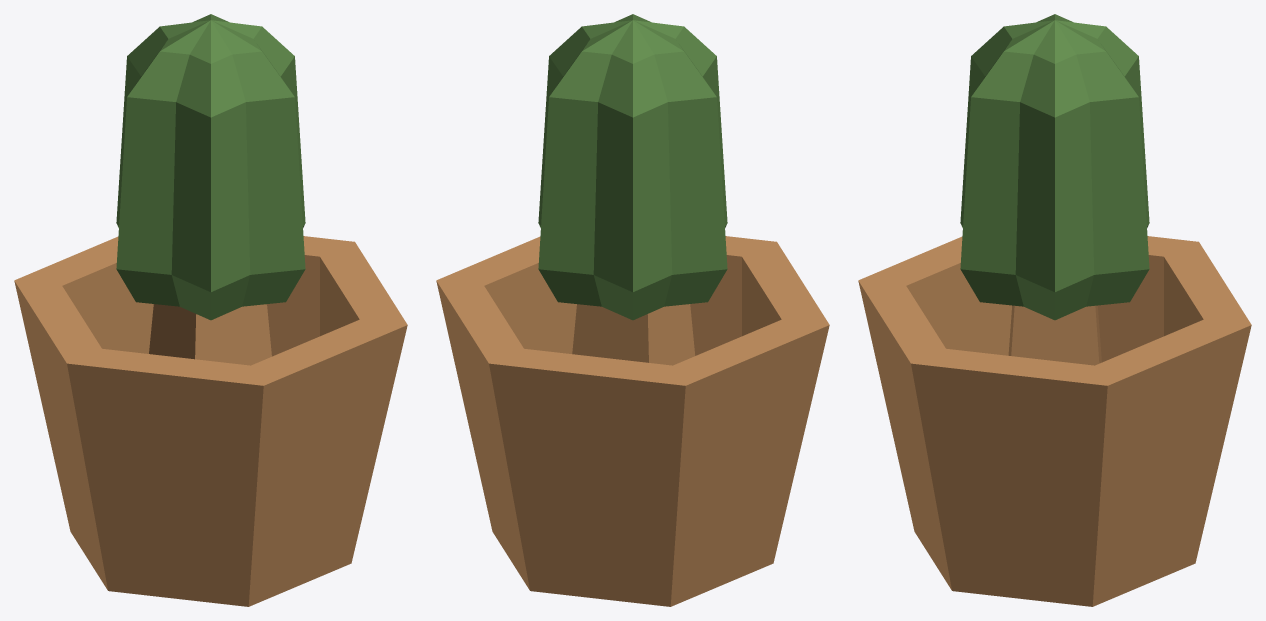
The model's file is kitPlantSmall2.glb.
3 renders of one model, left to right at view 1: azimuth 30°, elevation 25°; view 2: azimuth 150°, elevation 25°; view 3: azimuth 270°, elevation 25°, orthographic.
Parts seen in each view (by area): view 1: kitPlantSmall2_wood, kitPlantSmall2_leaf; view 2: kitPlantSmall2_wood, kitPlantSmall2_leaf; view 3: kitPlantSmall2_wood, kitPlantSmall2_leaf.
Part boxes in pixels (x1,y1,x2,y2): kitPlantSmall2_wood: [14, 236, 407, 606]; kitPlantSmall2_leaf: [116, 14, 305, 320]; kitPlantSmall2_wood: [436, 236, 829, 606]; kitPlantSmall2_leaf: [538, 14, 727, 320]; kitPlantSmall2_wood: [858, 236, 1251, 606]; kitPlantSmall2_leaf: [960, 14, 1149, 320].
Bounding box in the file's own units: 0.1893 × 0.28 × 0.1893.
